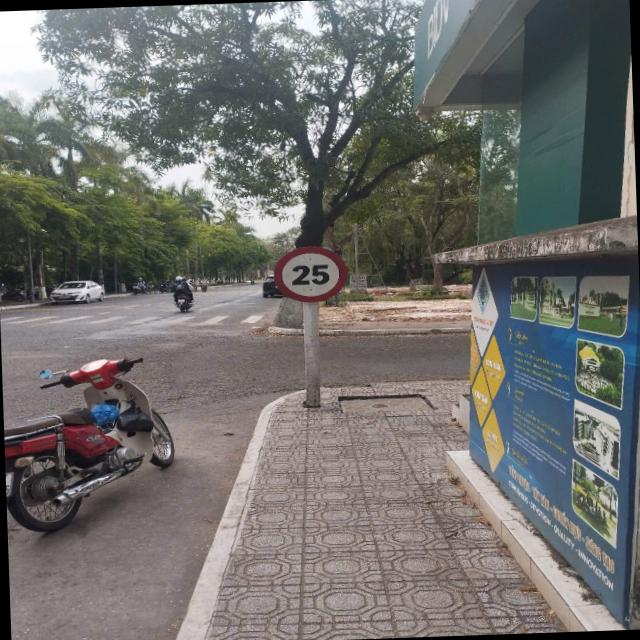Tre_Em: (271, 244, 351, 305)
